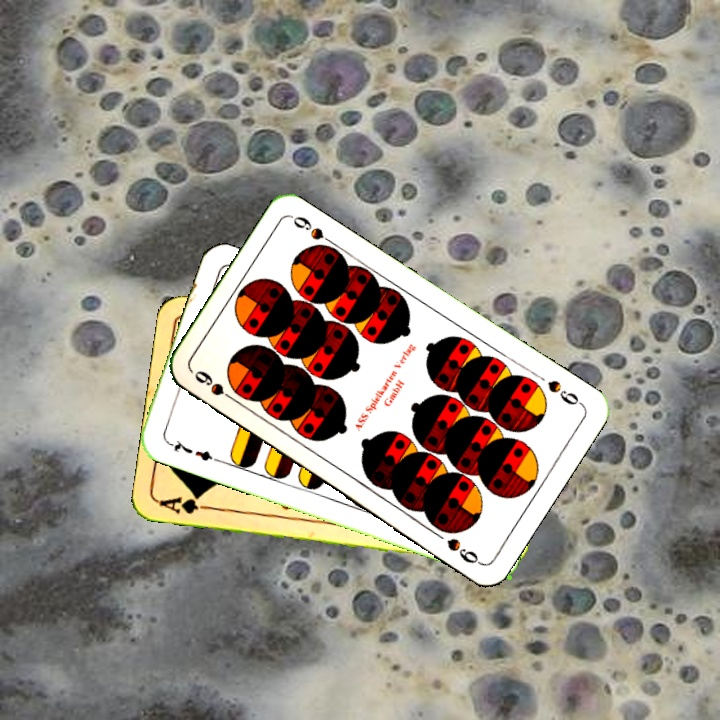E7: (163, 435, 220, 465)
GA: (155, 491, 215, 517)
S9: (190, 366, 242, 406), (543, 376, 586, 409)
